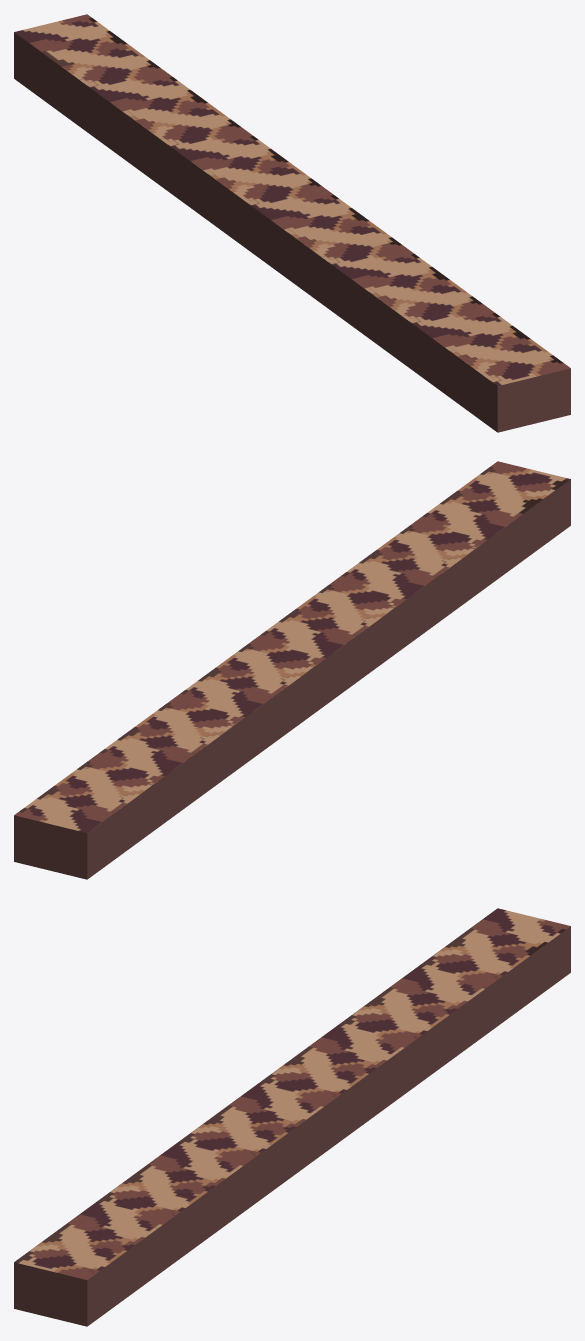
File: garlic_braid.glb
3 views of the same model, one above another, from view 1: azimuth 30°, elevation 25°; view 2: azimuth 150°, elevation 25°; view 3: azimuth 330°, elevation 25° (orthographic).
Parts seen in each view (by area): view 1: garlic-braid; view 2: garlic-braid; view 3: garlic-braid.
Boxes of the visible parts, box(x1,y1,x2,y2) form: garlic-braid: box(14, 14, 570, 432); garlic-braid: box(14, 461, 570, 879); garlic-braid: box(14, 908, 570, 1326).
Size of the model in its own units: 0.0875 by 0.0531 by 1.
2 materials, 1 textured.
